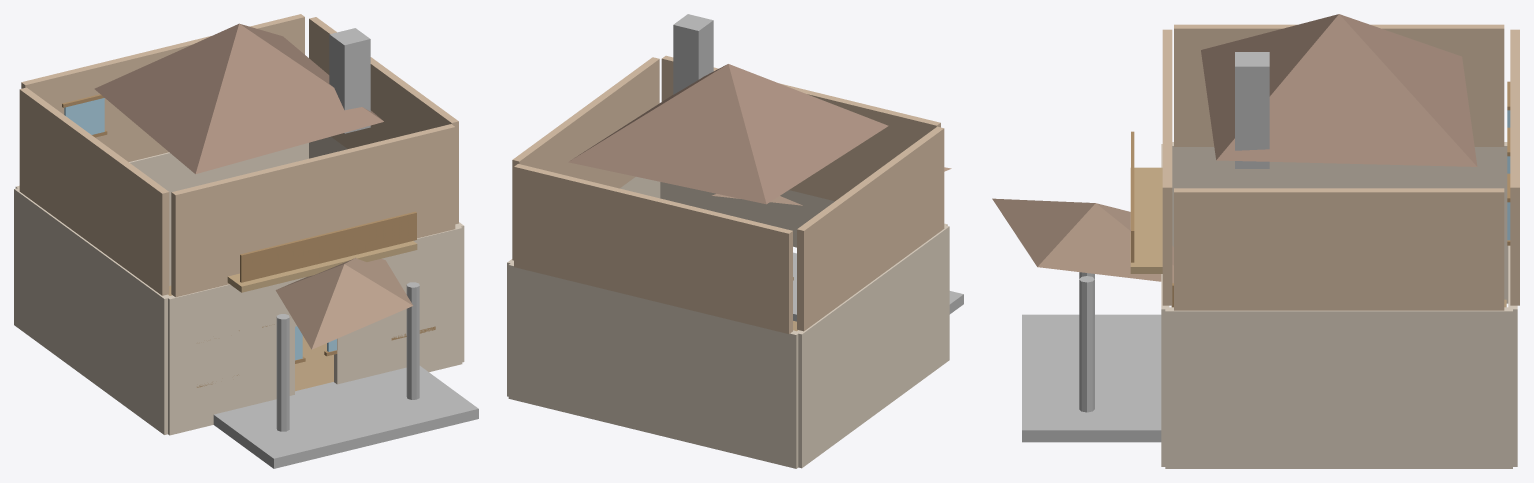
File: house_big.fbx
The picture shows the model from 3 angles, left to right: view 1: azimuth 30°, elevation 25°; view 2: azimuth 150°, elevation 25°; view 3: azimuth 270°, elevation 25°; orthographic projection. The views are drawn at different scales.
Visible parts, largest first — view 1: Front2, Roof, Left, Left2, Front_L, Porch, Front_R, PorchRoof, Back2, Right2, BalconyRail, Back (+7 smaller); view 2: Back, Back2, Roof, Left, Left2, Right2, Front2, Chimney, Front_R, Front_Top, Right, Porch; view 3: Right, Right2, Roof, Porch, Left2, Left, PorchRoof, Chimney, Balcony, Front2, Back2, Column.001 (+2 smaller).
Part boxes in pixels (x1,y1,x2,y2): Front2: [171, 124, 455, 297]; Roof: [94, 23, 383, 174]; Left: [14, 188, 170, 434]; Left2: [19, 87, 169, 295]; Front_L: [167, 280, 294, 435]; Porch: [213, 366, 478, 468]; Front_R: [334, 225, 462, 384]; PorchRoof: [275, 258, 412, 349]; Back2: [21, 14, 304, 161]; Right2: [309, 17, 458, 224]; BalconyRail: [240, 211, 416, 282]; Back: [15, 143, 308, 285]; Back: [508, 263, 799, 468]; Back2: [514, 164, 792, 333]; Roof: [568, 64, 888, 204]; Left: [796, 225, 949, 468]; Left2: [797, 126, 944, 331]; Right2: [512, 57, 659, 260]; Front2: [661, 55, 940, 201]; Chimney: [673, 14, 713, 94]; Front_R: [660, 182, 779, 227]; Front_Top: [779, 190, 821, 247]; Right: [507, 176, 660, 396]; Porch: [793, 252, 963, 321]; Right: [1165, 307, 1512, 468]; Right2: [1174, 188, 1504, 310]; Roof: [1201, 14, 1477, 166]; Porch: [1022, 314, 1161, 442]; Left2: [1174, 24, 1504, 146]; Left: [1172, 142, 1508, 303]; PorchRoof: [992, 198, 1173, 283]; Chimney: [1235, 52, 1269, 168]; Balcony: [1130, 167, 1162, 273]; Front2: [1162, 29, 1172, 305]; Back2: [1510, 29, 1519, 305]; Column.001: [1079, 276, 1094, 412].
Bounding box in the file's own units: 9.22 × 9.4 × 12.15.
